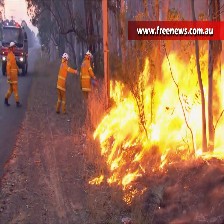fire_h: (87, 49, 224, 201)
fire_l: (124, 188, 147, 204), (122, 170, 142, 188), (111, 150, 127, 170), (106, 171, 121, 183), (89, 175, 104, 185)
